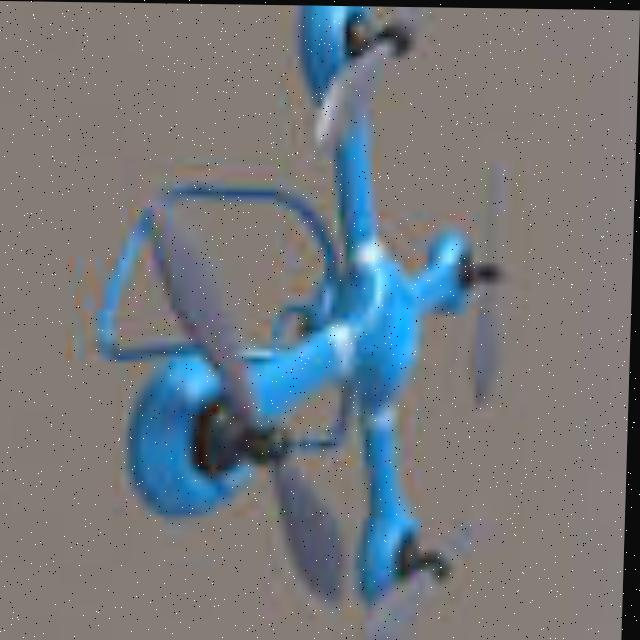drone: (65, 1, 544, 640)
